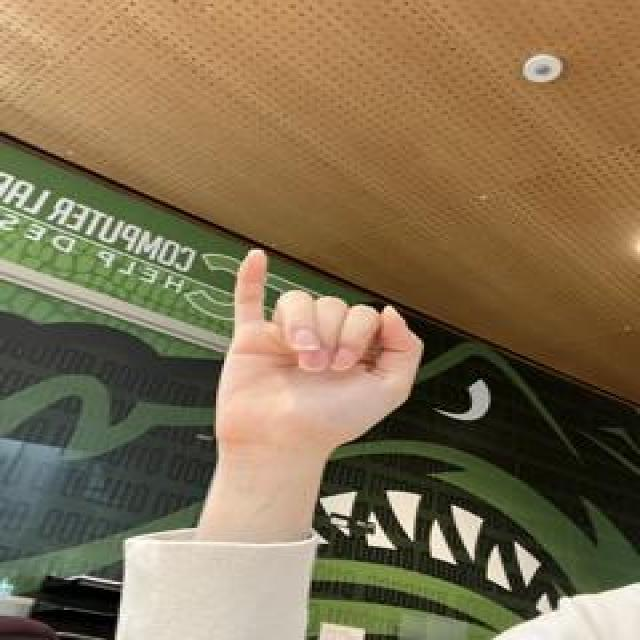I: (129, 217, 452, 501)
